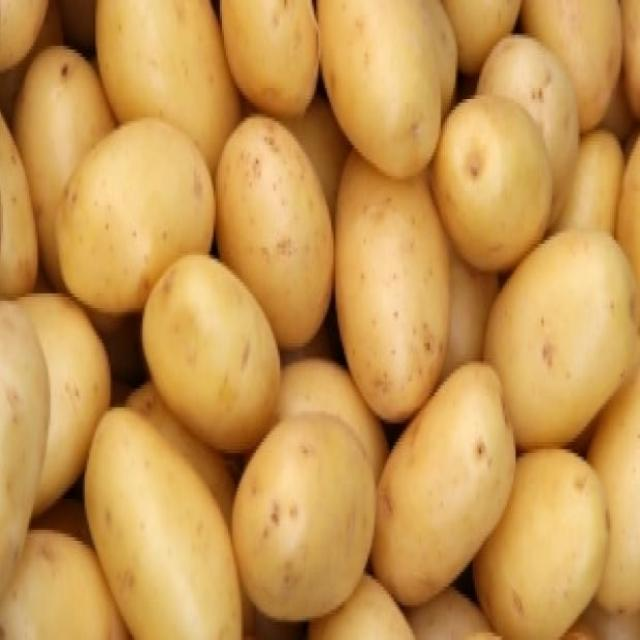potato: (86, 402, 241, 640), (369, 357, 514, 605), (229, 412, 382, 623), (57, 118, 221, 313), (490, 230, 636, 444), (338, 156, 451, 414), (213, 111, 334, 342), (141, 255, 285, 448), (487, 443, 609, 639), (436, 106, 558, 264)
